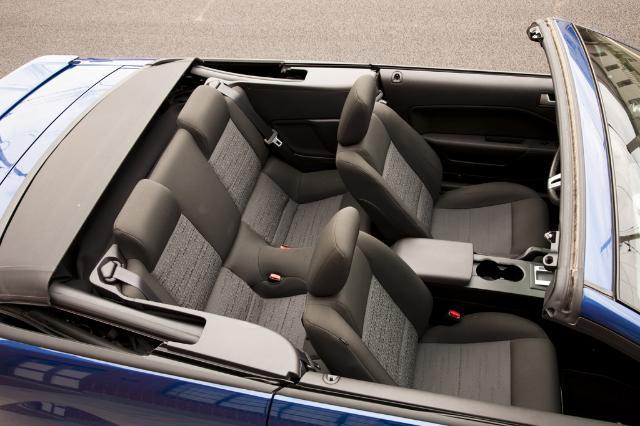Seatbelt: (115, 266, 163, 302)
